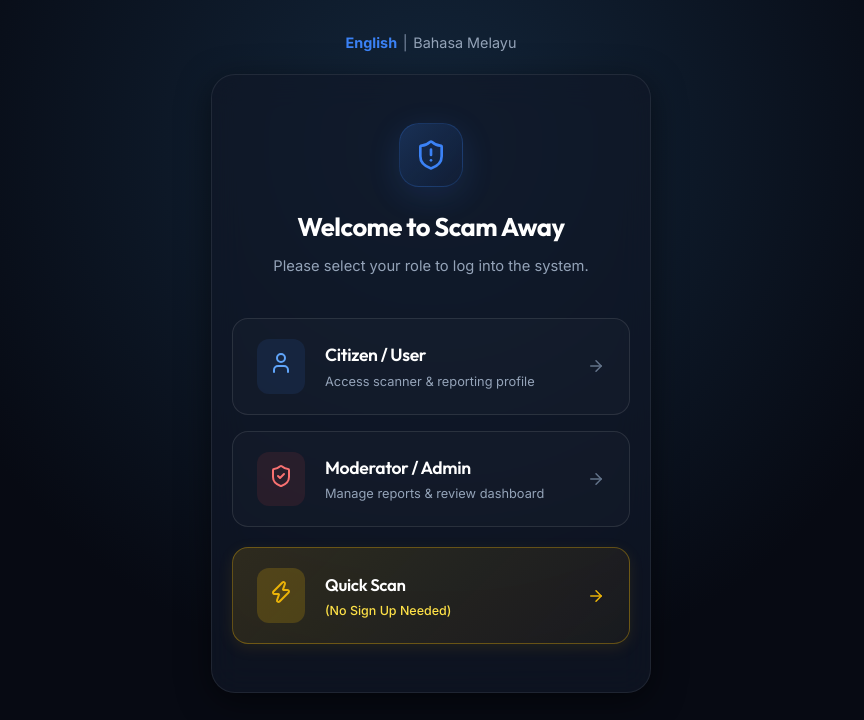
Scenario: App Component › renders the App and switches roles
Expected: the heading "Welcome to Scam Away" is shown, [297,210,565,243]
Click the heading "Moderator / Admin" at (398, 467), box [325,456,471,479]
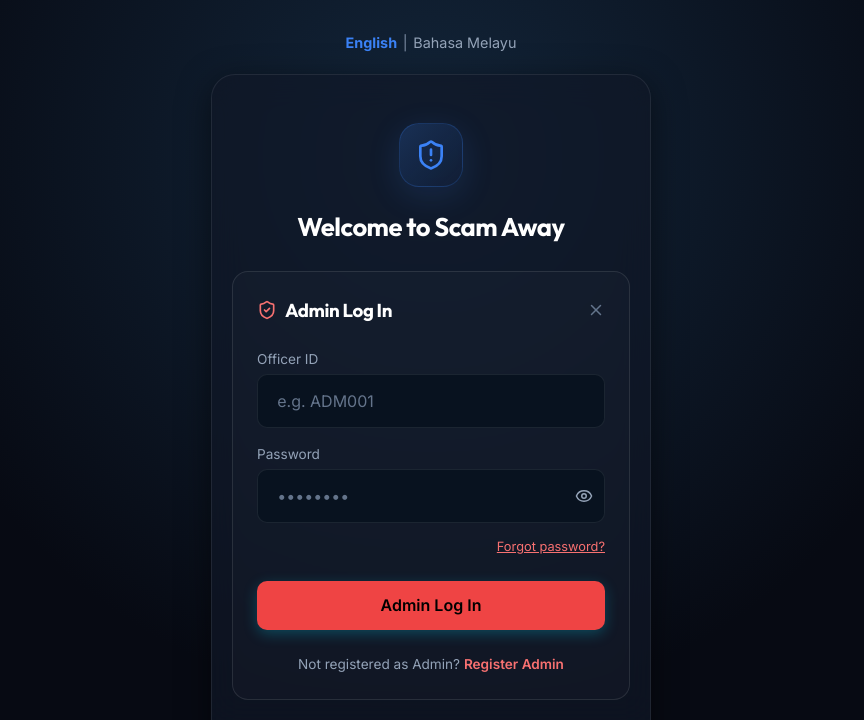
Result: the text "Officer ID" is shown at [257,351,318,367]
